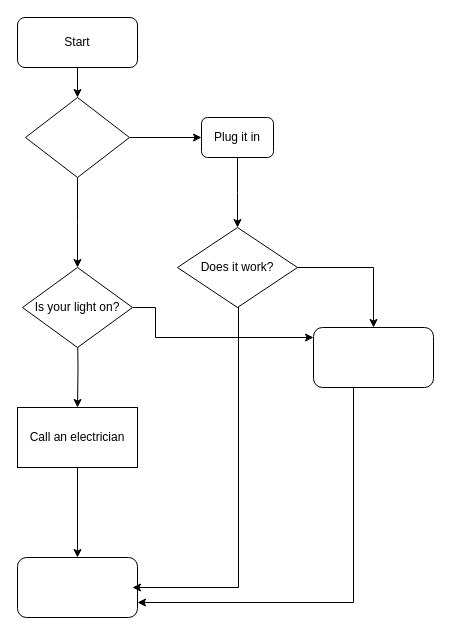
This 451x635 diagram has some shape labels left out. The box of each missing label's shape, as (x1, y1, x2, y2) in pixels:
Call a technician: (312, 326, 434, 388)
Is it plugged in?: (24, 96, 130, 178)
Stop: (16, 556, 138, 618)
